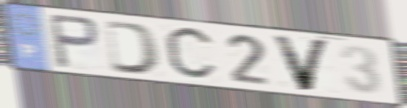2: (225, 33, 272, 87)
3: (339, 43, 384, 96)
C: (162, 24, 220, 84)
D: (103, 18, 164, 77)
P: (46, 12, 102, 71)
V: (269, 33, 333, 93)
